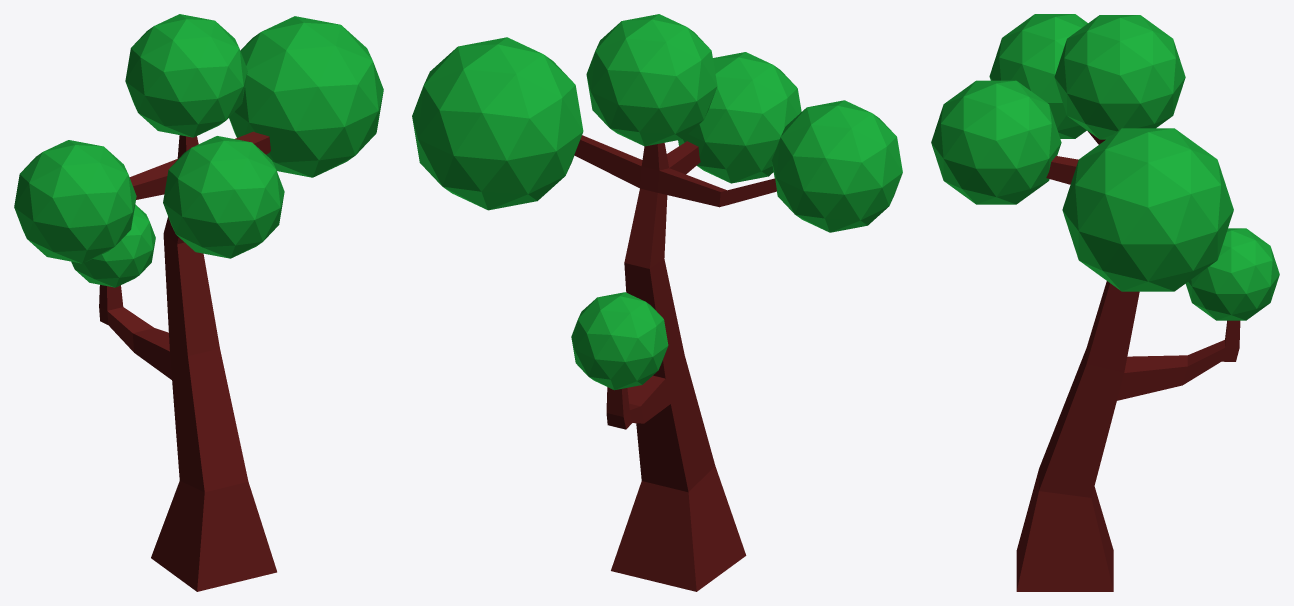
Rendered from Tree 1.1.fbx.
3 renders of one model, left to right at view 1: azimuth 30°, elevation 25°; view 2: azimuth 150°, elevation 25°; view 3: azimuth 270°, elevation 25°, orthographic. The views are drawn at different scales.
Visible parts, largest first — view 1: Cube; view 2: Cube; view 3: Cube.
Part boxes in pixels (bbox=[...]): Cube: bbox=[14, 14, 383, 591]; Cube: bbox=[412, 14, 902, 591]; Cube: bbox=[931, 14, 1279, 591].
Bounding box in the file's own units: 232 × 299 × 171.
